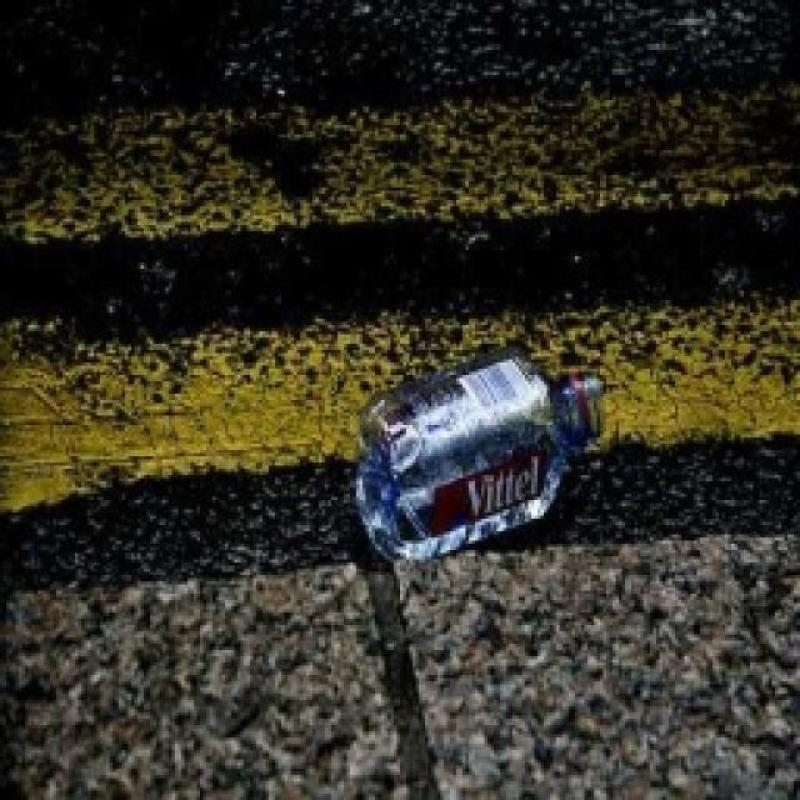botella: (354, 353, 608, 559)
